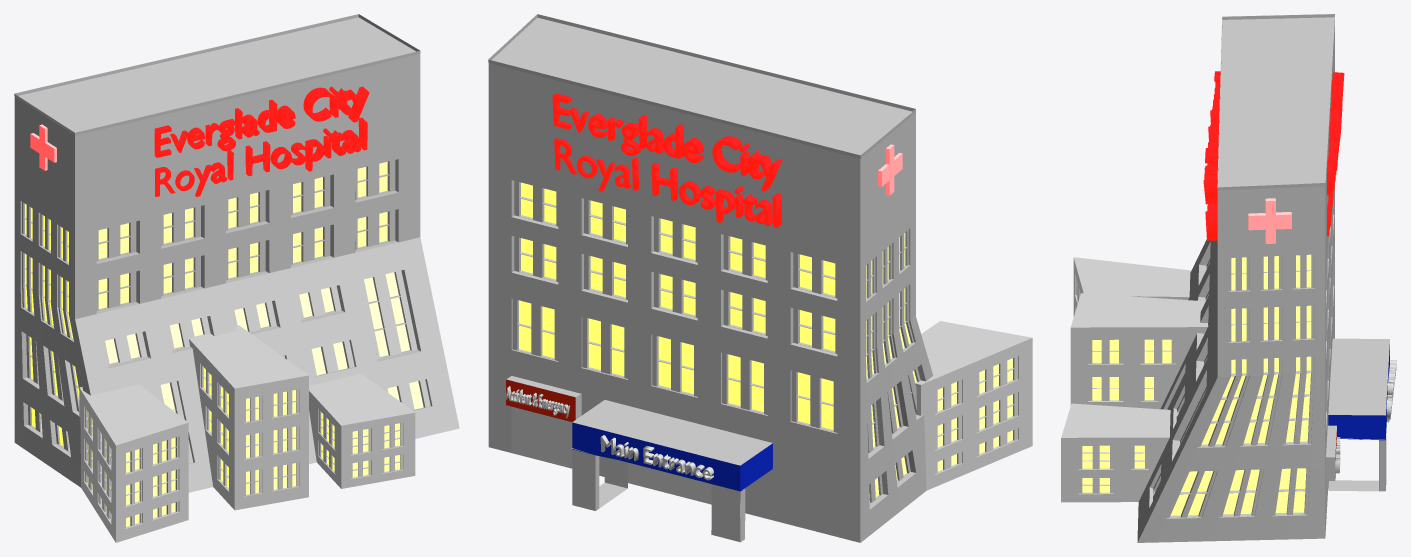
File: everglade_city_royal_hospital.fbx
3 renders of one model, left to right at view 1: azimuth 30°, elevation 25°; view 2: azimuth 150°, elevation 25°; view 3: azimuth 270°, elevation 25°, orthographic. The views are drawn at different scales.
Visible parts, largest first — view 1: everglade_city_royal_hospital, Text.003, Cube.001; view 2: everglade_city_royal_hospital, Text.002, Text.001, Text, Cube.001; view 3: everglade_city_royal_hospital, Text.003, Text.002, Cube, Text.001.
Part boxes in pixels (x1,y1,x2,y2): everglade_city_royal_hospital: (14,14,459,542); Text.003: (154,86,369,196); Cube.001: (30,124,56,170); everglade_city_royal_hospital: (488,14,1032,542); Text.002: (552,93,782,227); Text.001: (600,435,713,480); Text: (505,386,569,418); Cube.001: (878,144,902,195); everglade_city_royal_hospital: (1061,14,1389,542); Text.003: (1203,71,1220,240); Text.002: (1327,72,1344,236); Cube: (1248,198,1291,243); Text.001: (1386,360,1396,419).
Size of the model in its own units: 487 by 436 by 368.
